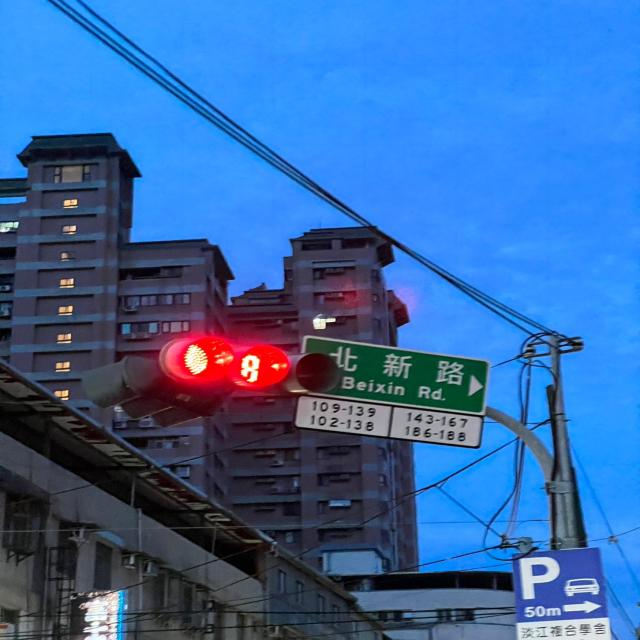red light: (160, 337, 341, 395)
